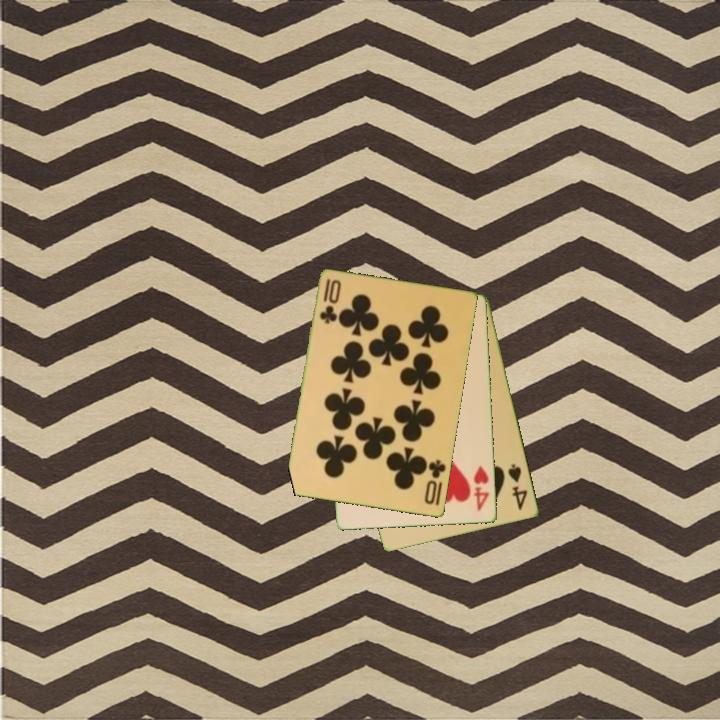10c: (421, 456, 449, 509), (316, 275, 343, 327)
4h: (470, 462, 492, 514)
4s: (505, 460, 531, 513)
